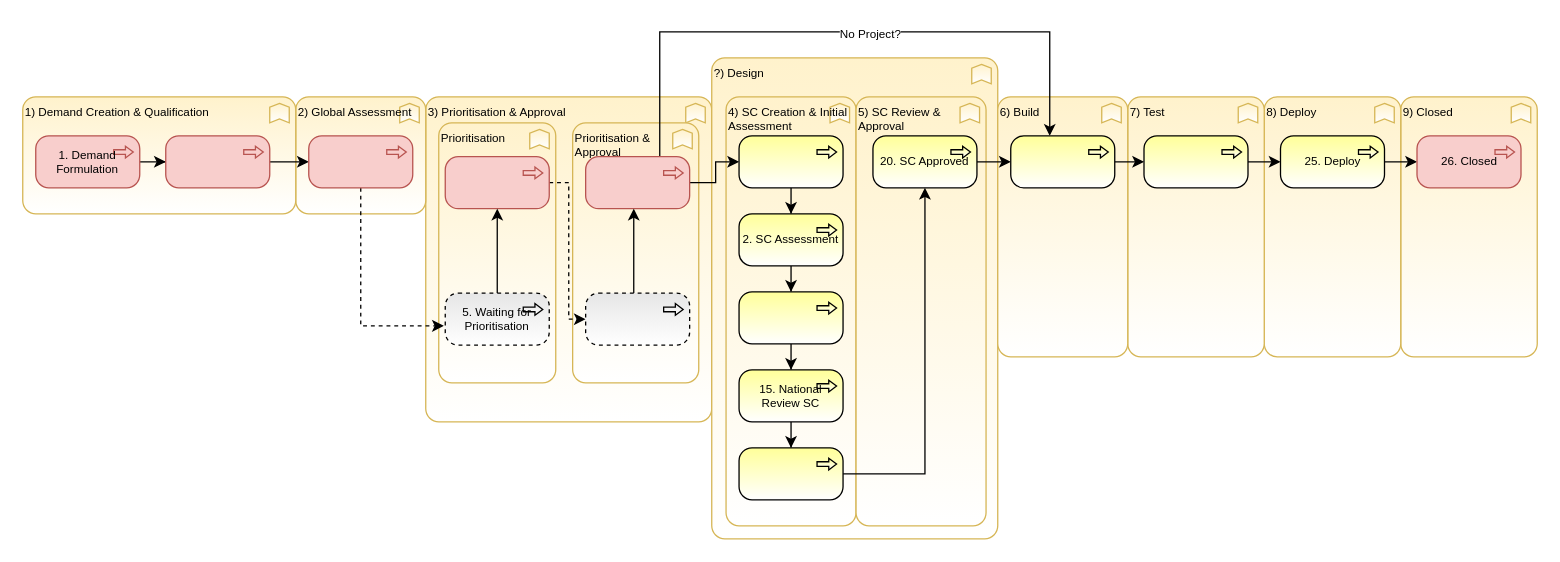
Image size: 1560x562. Some labels were removed from this diagram. The shapes that lost their labels are listed below. From the top down, each one's centre as x and y in pixels, then its label:
the point at 217,161: 3. National Qualification
the point at 360,161: 4. Global Assessment
the point at 790,161: 0. SC Create
the point at 1062,161: 23. Build
the point at 1195,161: 24. Test
the point at 496,182: 6. Prioritisation
the point at 637,182: 9. Approved & Prioritised
the point at 637,318: 8. Waiting for approval
the point at 790,317: 13. Global Review SC
the point at 790,473: 16. Consolidate National Review
